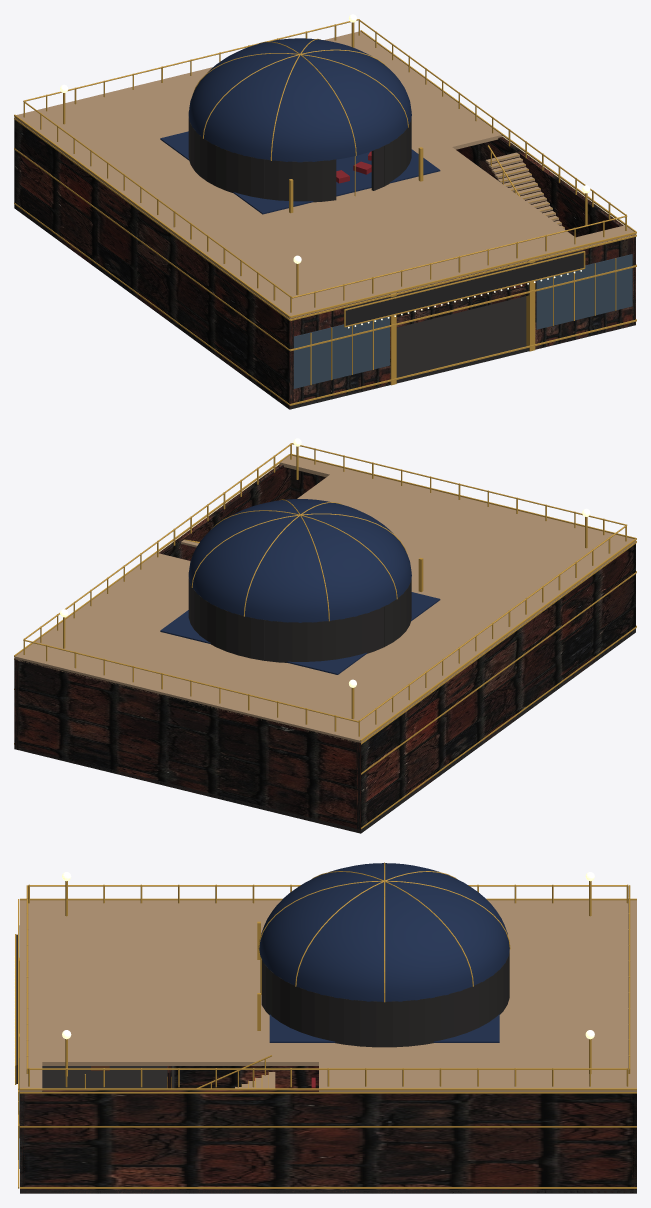
File: cinema-planetarium-v3.glb
The picture shows the model from 3 angles, top to bottom: view 1: azimuth 30°, elevation 25°; view 2: azimuth 150°, elevation 25°; view 3: azimuth 270°, elevation 25°; orthographic projection. The views are drawn at different scales.
Parts seen in each view (by area): view 1: CinemaExterior_Sandstone, CinemaExterior_Oxblood brick, CinemaExterior_Planetarium midnight, CinemaExterior_Black lacquer, CinemaExterior_Warm brass, CinemaExterior_Smoked window, PlanetariumInterior_Planetarium midnight, CinemaInterior_Sandstone, CinemaInterior_Warm brass; view 2: CinemaExterior_Oxblood brick, CinemaExterior_Sandstone, CinemaExterior_Planetarium midnight, CinemaExterior_Black lacquer, CinemaExterior_Warm brass, PlanetariumInterior_Planetarium midnight; view 3: CinemaExterior_Sandstone, CinemaExterior_Oxblood brick, CinemaExterior_Planetarium midnight, CinemaExterior_Black lacquer, CinemaExterior_Warm brass, CinemaInterior_Oxblood brick, PlanetariumInterior_Planetarium midnight.
Part boxes in pixels (box(x1,y1,x2,y2)): CinemaExterior_Sandstone: box(14, 31, 635, 318); CinemaExterior_Oxblood brick: box(14, 120, 635, 409); CinemaExterior_Planetarium midnight: box(188, 38, 411, 162); CinemaExterior_Black lacquer: box(14, 111, 635, 409); CinemaExterior_Warm brass: box(14, 19, 636, 405); CinemaExterior_Smoked window: box(293, 254, 632, 388); PlanetariumInterior_Planetarium midnight: box(160, 131, 440, 214); CinemaInterior_Sandstone: box(485, 152, 564, 229); CinemaInterior_Warm brass: box(488, 145, 564, 227); CinemaExterior_Oxblood brick: box(14, 464, 635, 833); CinemaExterior_Sandstone: box(14, 455, 635, 742); CinemaExterior_Planetarium midnight: box(188, 499, 411, 622); CinemaExterior_Black lacquer: box(14, 571, 635, 833); CinemaExterior_Warm brass: box(14, 443, 636, 829); PlanetariumInterior_Planetarium midnight: box(160, 592, 440, 674); CinemaExterior_Sandstone: box(20, 900, 636, 1091); CinemaExterior_Oxblood brick: box(20, 1090, 636, 1193); CinemaExterior_Planetarium midnight: box(259, 863, 509, 1001); CinemaExterior_Black lacquer: box(16, 934, 636, 1193); CinemaExterior_Warm brass: box(15, 862, 636, 1188); CinemaInterior_Oxblood brick: box(167, 1066, 318, 1088); PlanetariumInterior_Planetarium midnight: box(269, 1014, 499, 1042).
Bounding box in the file's own units: 24.06 × 12.86 × 33.32.
11 materials, 1 textured.
